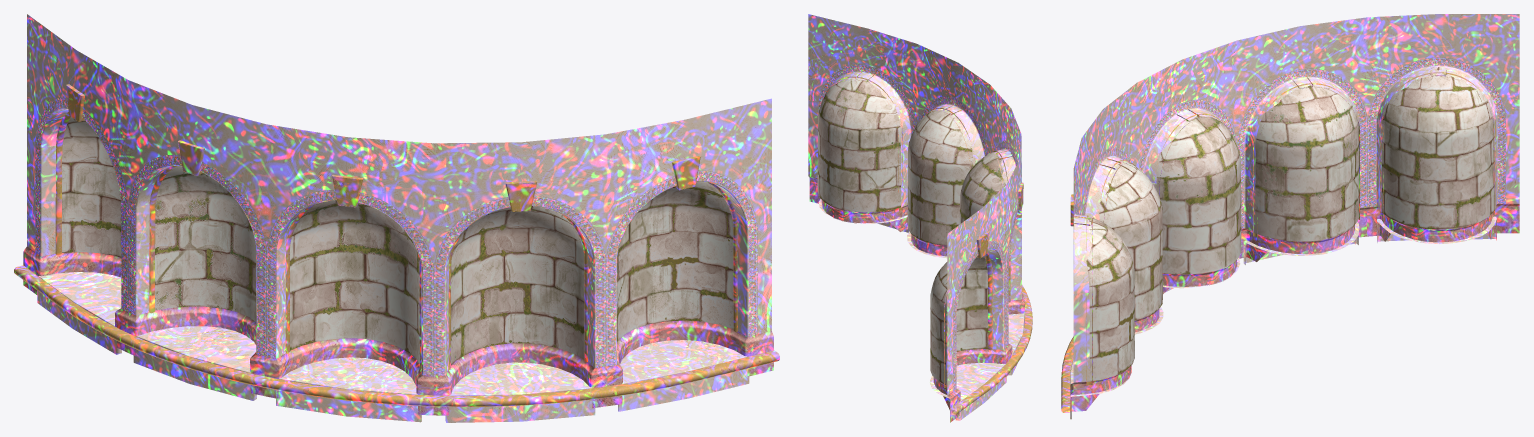
Rendered from alcove_corner_small_SM.fbx.
The picture shows the model from 3 angles, left to right: view 1: azimuth 30°, elevation 25°; view 2: azimuth 150°, elevation 25°; view 3: azimuth 270°, elevation 25°; orthographic projection. The views are drawn at different scales.
Parts seen in each view (by area): view 1: alcove_corner_small_SM_LOD0; view 2: alcove_corner_small_SM_LOD0; view 3: alcove_corner_small_SM_LOD0.
Boxes of the visible parts, x1,y1,x2,y2 form: alcove_corner_small_SM_LOD0: [14, 14, 779, 422]; alcove_corner_small_SM_LOD0: [808, 14, 1032, 422]; alcove_corner_small_SM_LOD0: [1061, 14, 1519, 419].
Size of the model in its own units: 1023 by 1023 by 559.
Materials: 5 (5 with a texture image).
